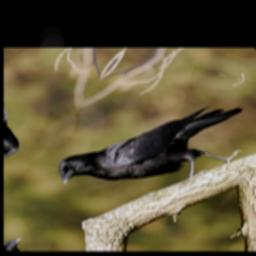Crow: (44, 76, 256, 222)
